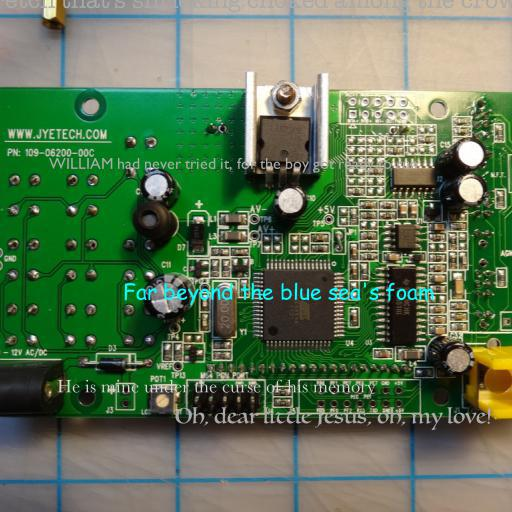American Typewriter: (0, 0, 512, 13)
Baskerville: (56, 379, 376, 397)
Comic Sans MS: (123, 282, 435, 306)
Gill Sans: (48, 157, 418, 173)
Luminari: (174, 406, 492, 431)
